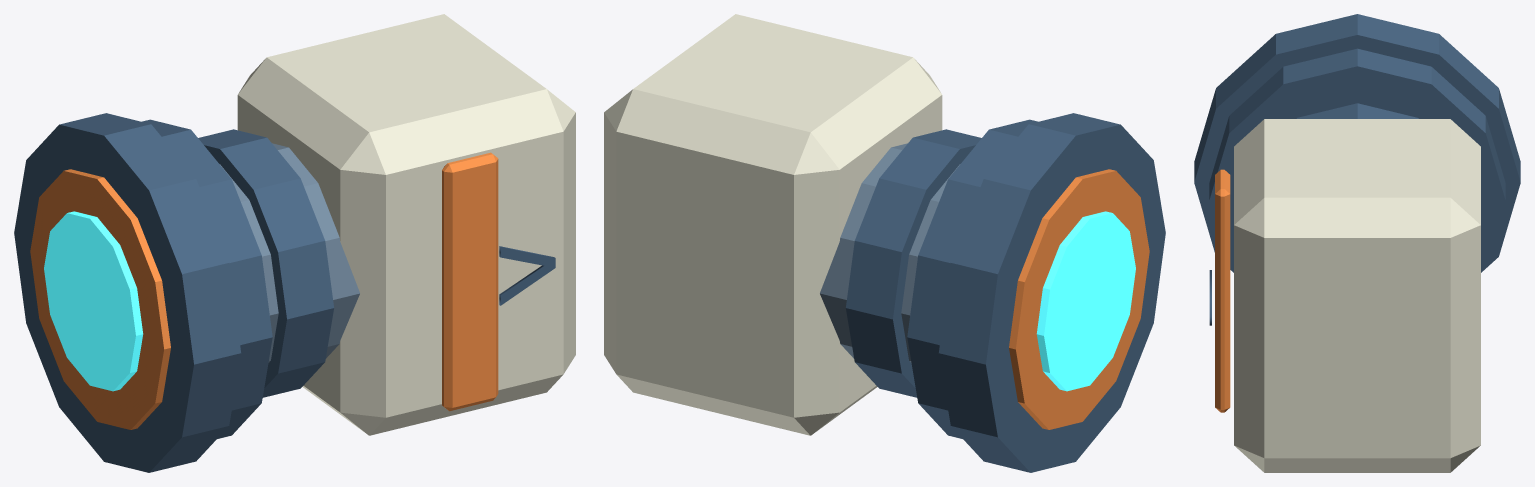
The model's file is thruster.glb.
3 renders of one model, left to right at view 1: azimuth 30°, elevation 25°; view 2: azimuth 150°, elevation 25°; view 3: azimuth 270°, elevation 25°, orthographic. The views are drawn at different scales.
Parts seen in each view (by area): view 1: Engine mount, Nozzle segment.002, Nozzle segment, Engine band, Exhaust aperture, Hot core, Nozzle segment.001, Fuel core, Thrust arrow; view 2: Engine mount, Nozzle segment.002, Nozzle segment, Exhaust aperture, Hot core, Nozzle segment.001, Fuel core; view 3: Engine mount, Nozzle segment.001, Nozzle segment.002, Engine band, Nozzle segment.
Part boxes in pixels (x1,y1,x2,y2): Engine mount: [237, 14, 575, 435]; Nozzle segment.002: [14, 113, 241, 472]; Nozzle segment: [198, 129, 333, 397]; Engine band: [442, 152, 498, 411]; Exhaust aperture: [30, 169, 170, 429]; Hot core: [44, 211, 143, 391]; Nozzle segment.001: [142, 119, 272, 438]; Fuel core: [219, 143, 359, 362]; Thrust arrow: [499, 246, 555, 305]; Engine mount: [604, 14, 942, 435]; Nozzle segment.002: [938, 113, 1165, 472]; Nozzle segment: [846, 129, 981, 397]; Exhaust aperture: [1009, 169, 1149, 429]; Hot core: [1036, 211, 1135, 391]; Nozzle segment.001: [907, 119, 1037, 438]; Fuel core: [820, 143, 960, 362]; Engine mount: [1234, 119, 1480, 472]; Nozzle segment.001: [1209, 48, 1505, 271]; Nozzle segment.002: [1194, 14, 1520, 272]; Engine band: [1215, 169, 1230, 412]; Nozzle segment: [1296, 103, 1418, 118].
Size of the model in its own units: 1.2 by 0.86 by 0.86.
